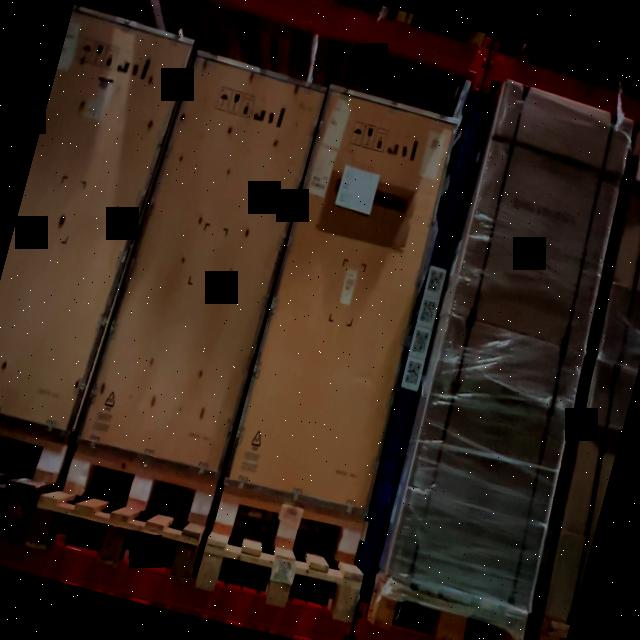box: (74, 51, 326, 481), (223, 86, 461, 517), (385, 321, 584, 617), (450, 82, 632, 357)
